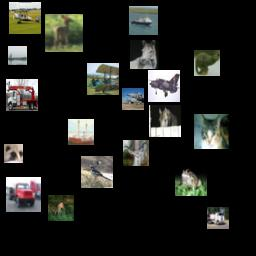airplane: (87, 63, 119, 95), (148, 70, 180, 102), (9, 2, 41, 34), (122, 88, 144, 110)
bird: (81, 156, 113, 188)
cat: (194, 114, 229, 149), (194, 50, 220, 76)
deer: (45, 14, 83, 52), (48, 195, 74, 221), (123, 140, 149, 166)
dog: (4, 144, 23, 163)
frog: (175, 164, 207, 196)
ship: (129, 6, 158, 35), (68, 119, 94, 145), (8, 46, 27, 65)
truck: (6, 177, 41, 212), (6, 79, 38, 111), (207, 207, 229, 229)
